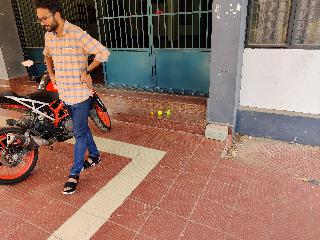shuttlecock: (164, 110, 170, 114)
